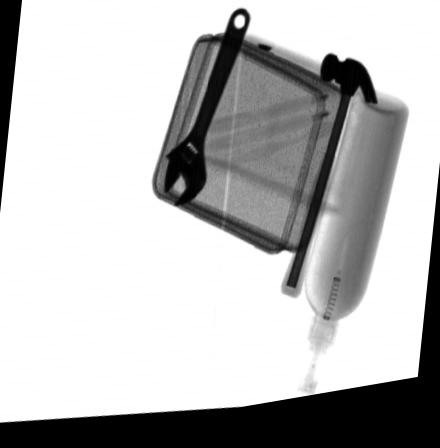Hammer: (281, 62, 378, 309)
Wrench: (163, 14, 251, 211)
